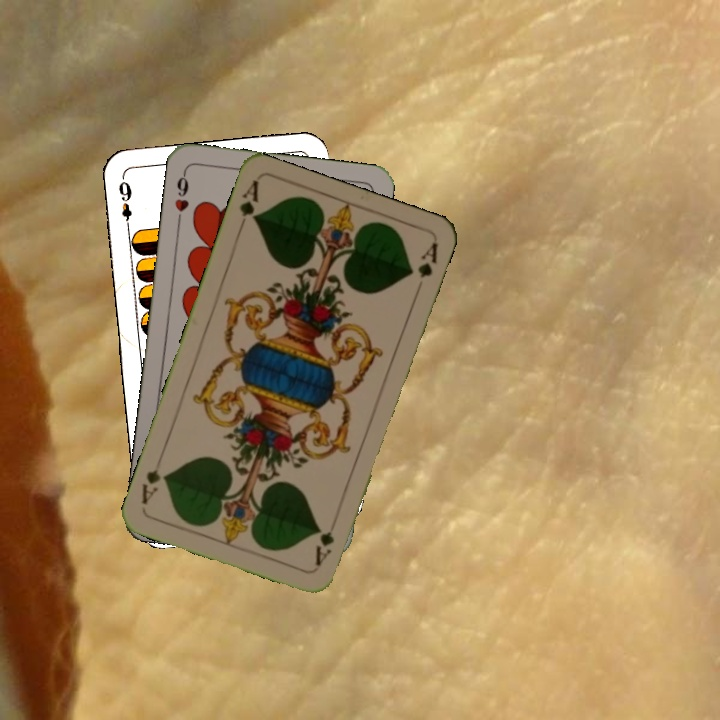E9: (114, 175, 135, 234)
GA: (234, 177, 262, 235), (311, 526, 337, 569)
H9: (170, 168, 192, 227)
